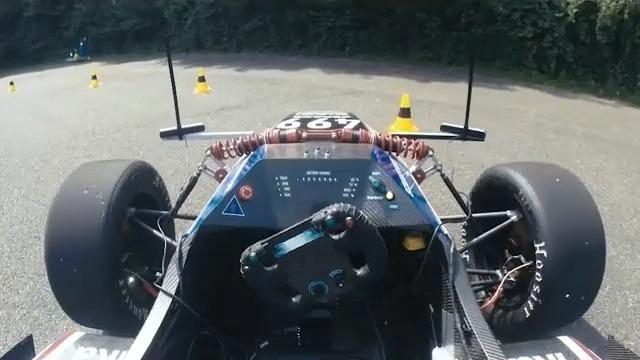yellow_cone: (382, 95, 424, 139), (192, 70, 210, 92), (87, 70, 104, 89), (5, 77, 19, 91)
